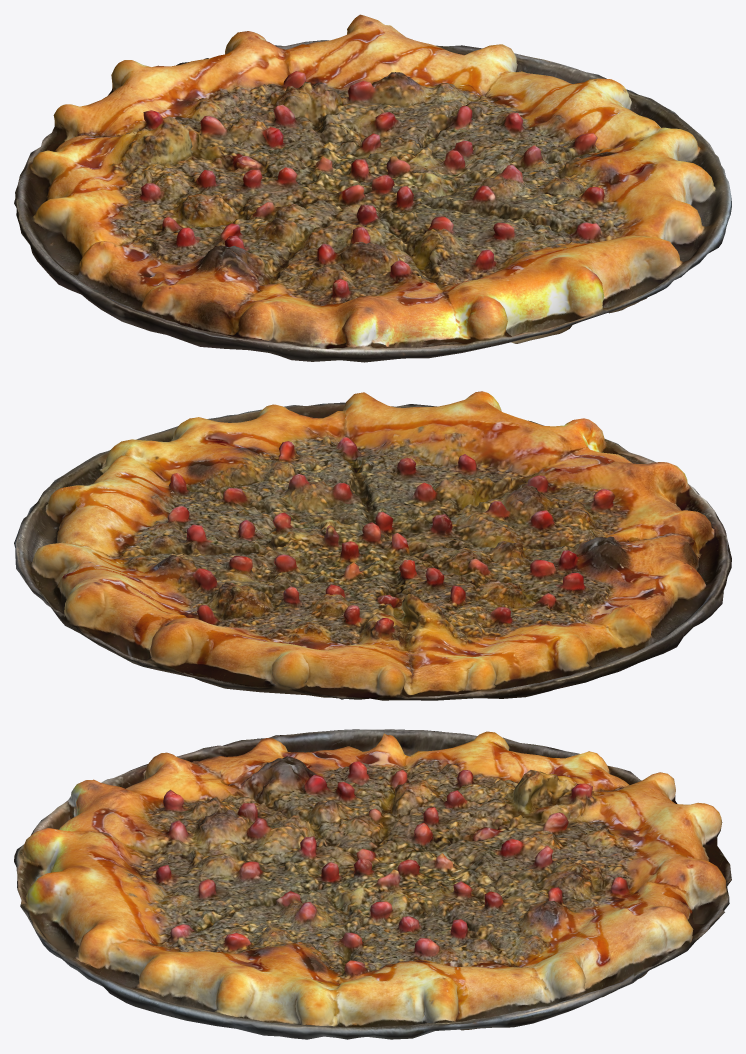
The model's file is zaatarPomegranate.glb.
3 renders of one model, top to bottom at view 1: azimuth 30°, elevation 25°; view 2: azimuth 150°, elevation 25°; view 3: azimuth 270°, elevation 25°, orthographic.
Parts seen in each view (by area): view 1: ObjectCapture; view 2: ObjectCapture; view 3: ObjectCapture.
Part boxes in pixels (<box>): ObjectCapture: <box>14,14,731,362</box>; ObjectCapture: <box>14,391,731,700</box>; ObjectCapture: <box>14,729,731,1039</box>.
Size of the model in its own units: 0.301 by 0.0333 by 0.2979.
Materials: 1 (1 with a texture image).
